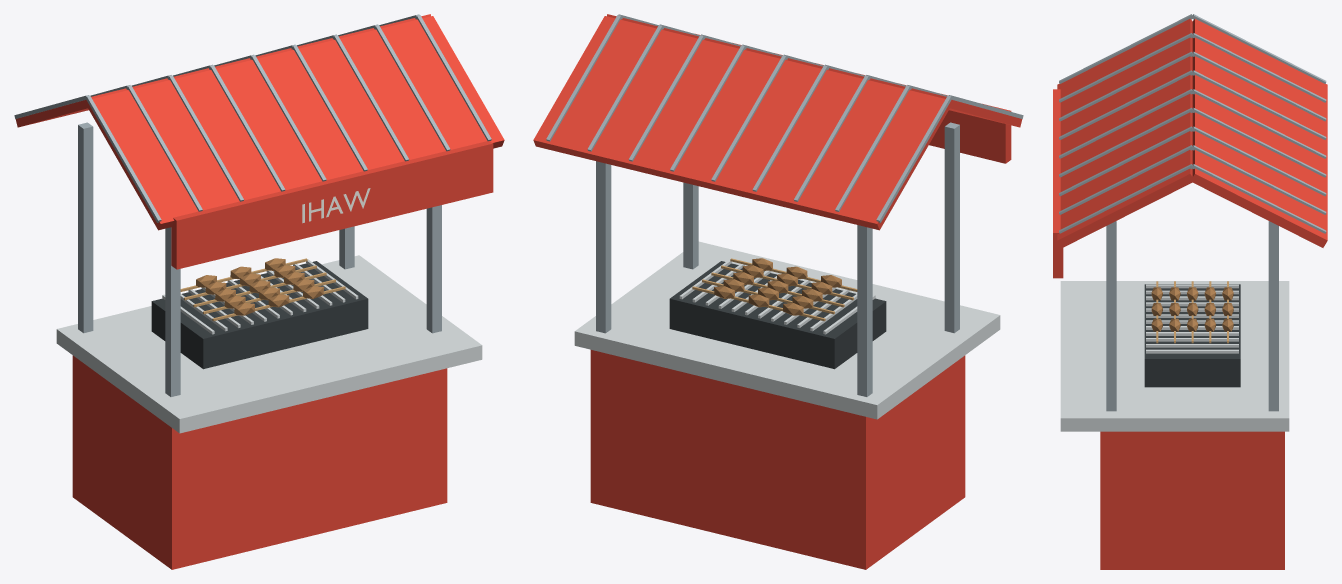
File: TR_Kiosk_IHAW.glb
3 renders of one model, left to right at view 1: azimuth 30°, elevation 25°; view 2: azimuth 150°, elevation 25°; view 3: azimuth 270°, elevation 25°, orthographic. The views are drawn at different scales.
Parts seen in each view (by area): view 1: TR_Kiosk_IHAW; view 2: TR_Kiosk_IHAW; view 3: TR_Kiosk_IHAW.
Part boxes in pixels (bbox=[...]): TR_Kiosk_IHAW: bbox=[14, 14, 504, 569]; TR_Kiosk_IHAW: bbox=[533, 14, 1023, 569]; TR_Kiosk_IHAW: bbox=[1053, 14, 1327, 569].
Bounding box in the file's own units: 2.51 × 3.1 × 1.87.
